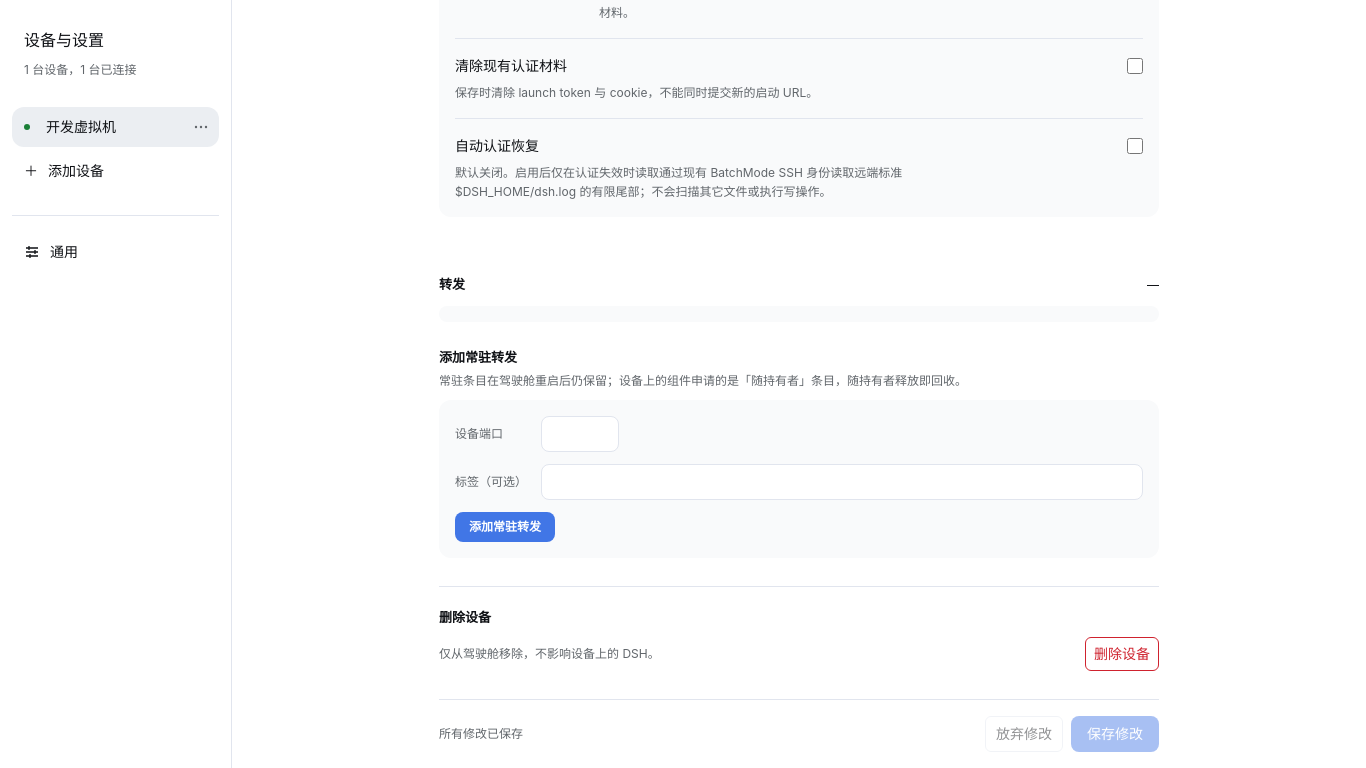
Test: device console › uses browser delete confirmation and displays delete failures in place
(page scrolled)
Click the button with aria-label "删除开发虚拟机".
click(1122, 654)  # box [1085,637,1159,671]
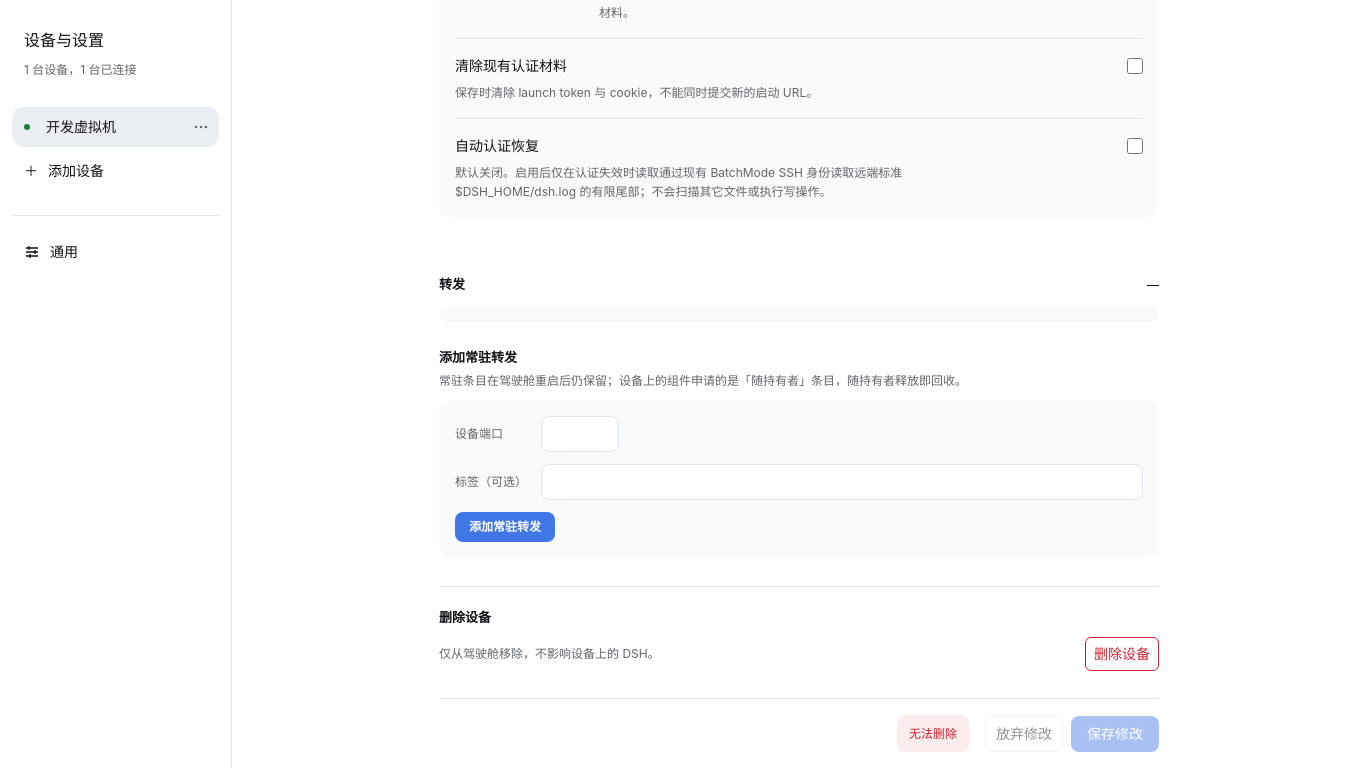
Expected: the message reads "无法删除", [909,726,957,741]
